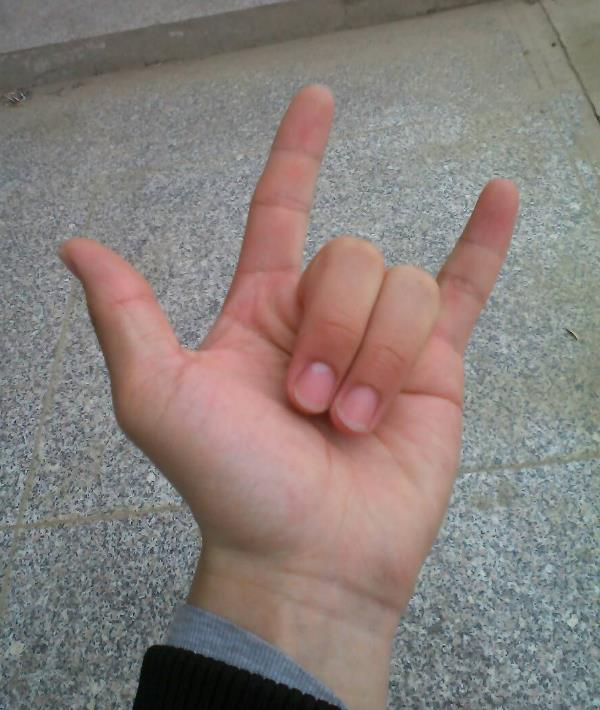back: (41, 68, 524, 579)
